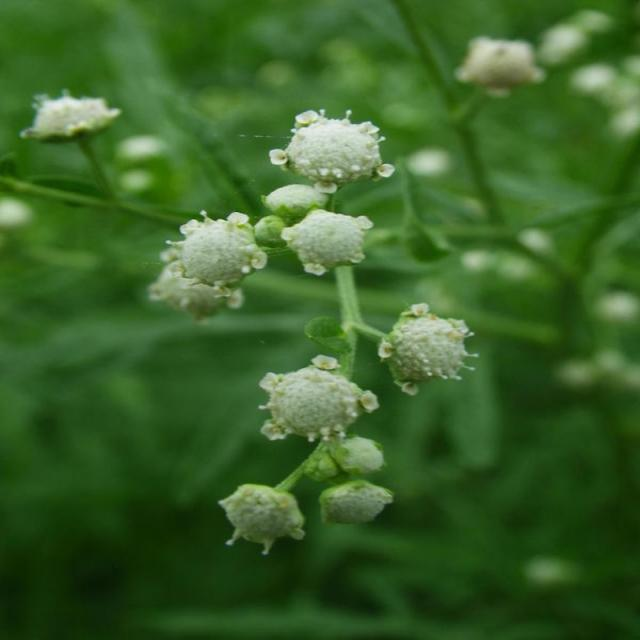Poisonous-Parthenium: (41, 76, 450, 322), (205, 310, 489, 562)
